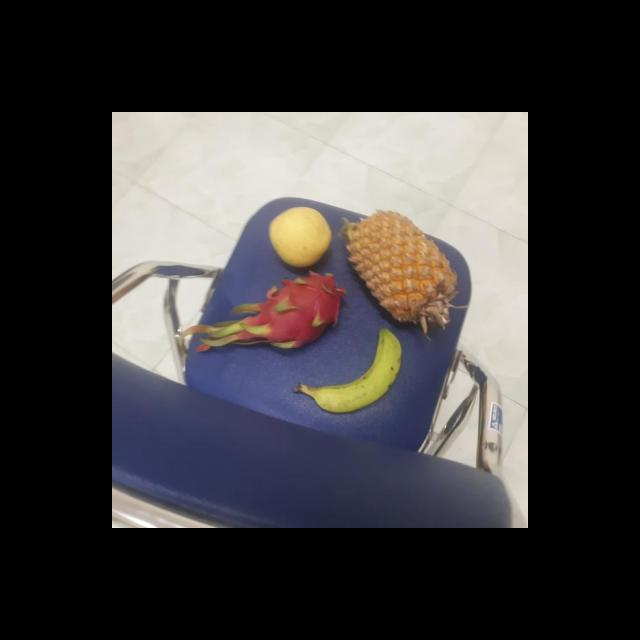banana: (292, 328, 400, 414)
pear: (266, 206, 334, 268)
pineapple: (332, 206, 457, 333)
pitaya: (250, 272, 343, 350)
